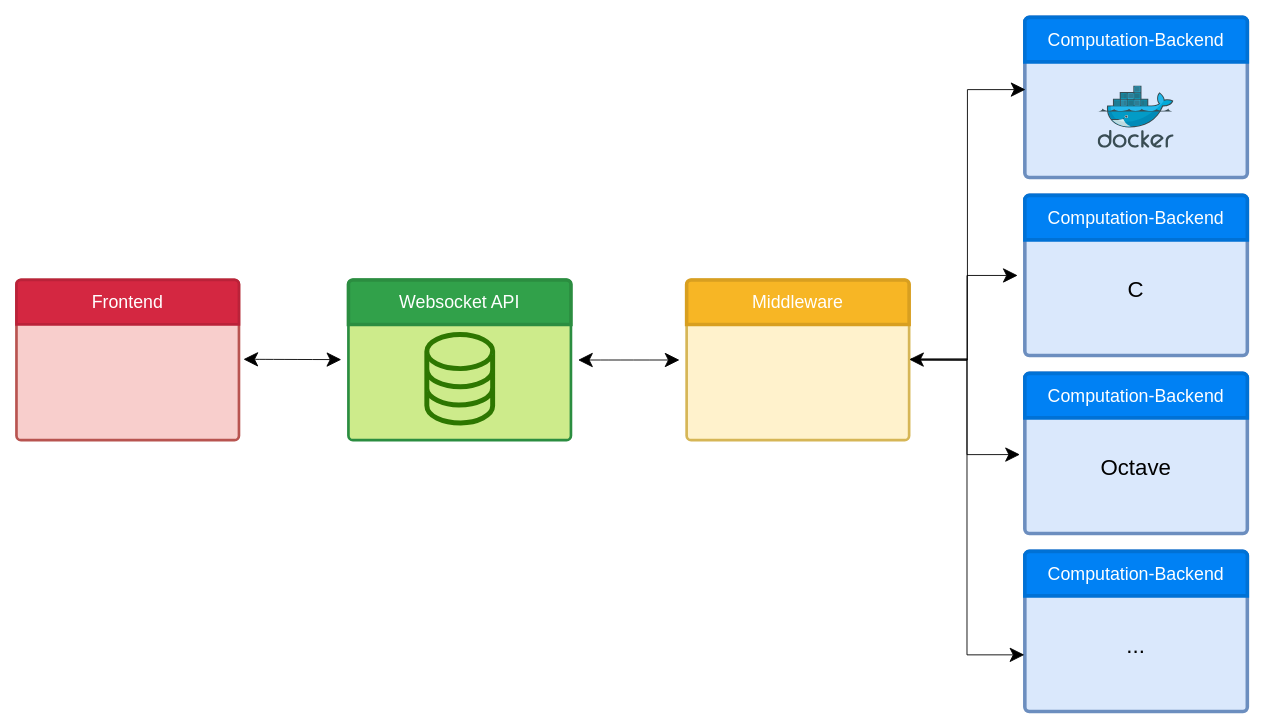
Some shapes in this 1265 by 728 pixel diagram are drawn without their labels. Each missing label, with the centre of its shape:
"As Standalone or integrated into e.g. ILIAS, DaRUS" goes at point (127, 359).
"ECS" goes at point (797, 359).
